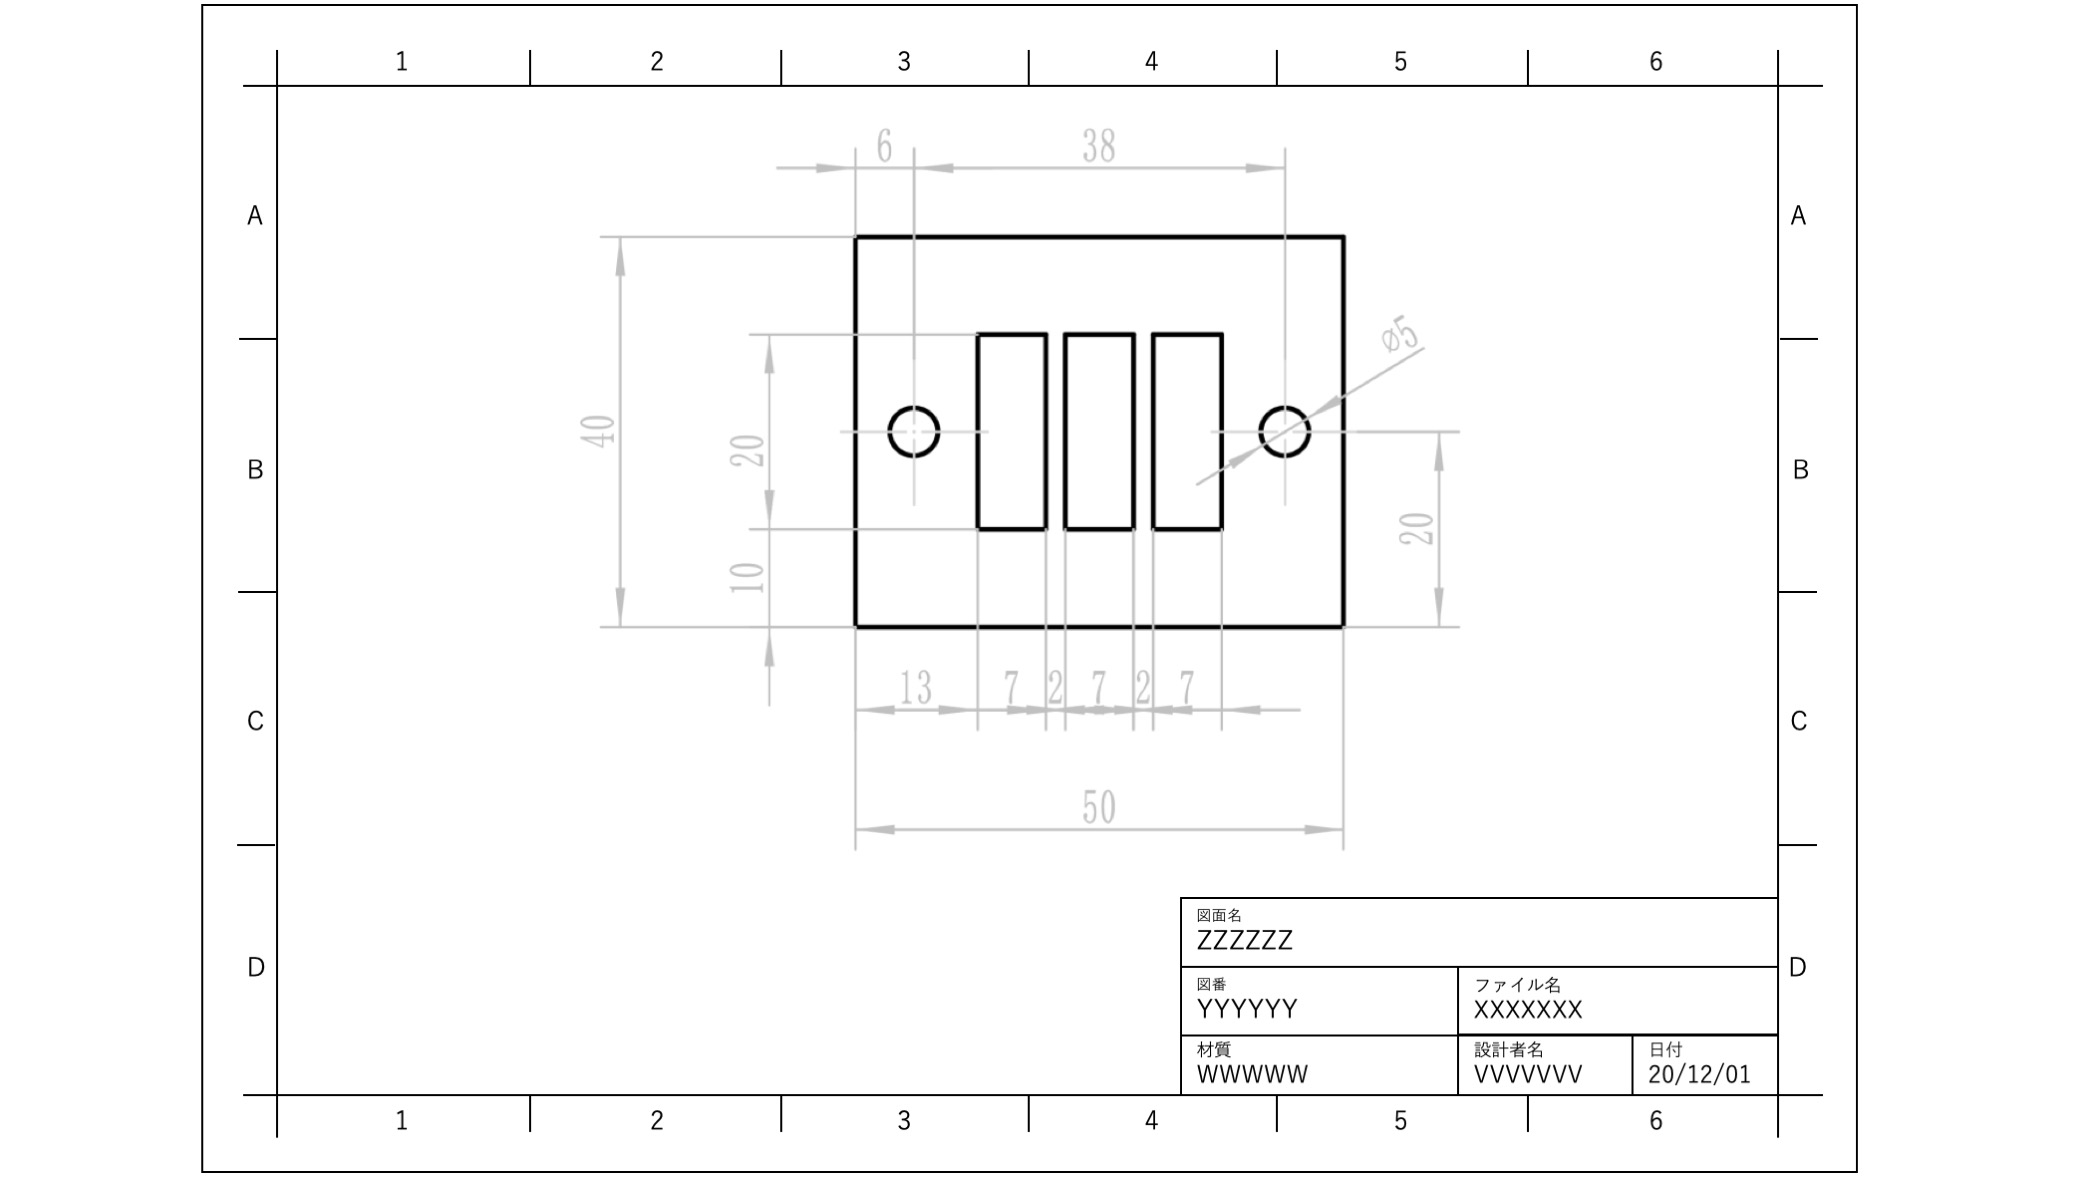circle: (1253, 397, 1320, 459), (884, 397, 943, 456)
rectangle: (1054, 322, 1139, 538), (1144, 322, 1227, 538), (972, 322, 1049, 539)
